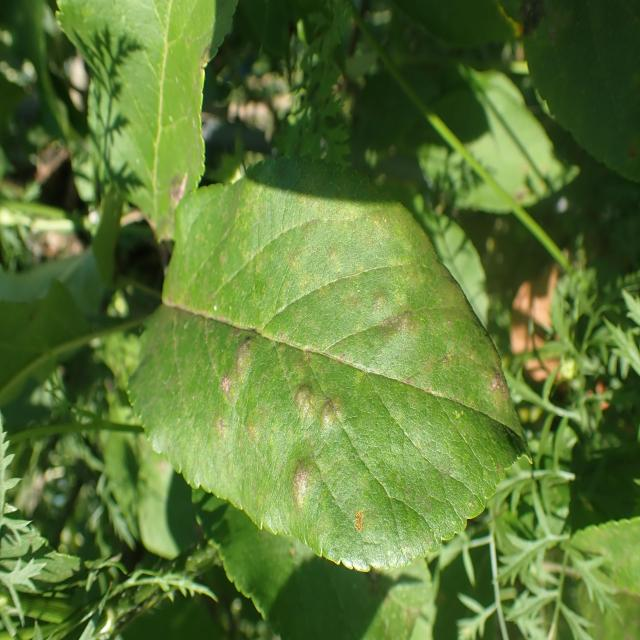scab: (182, 221, 524, 564)
